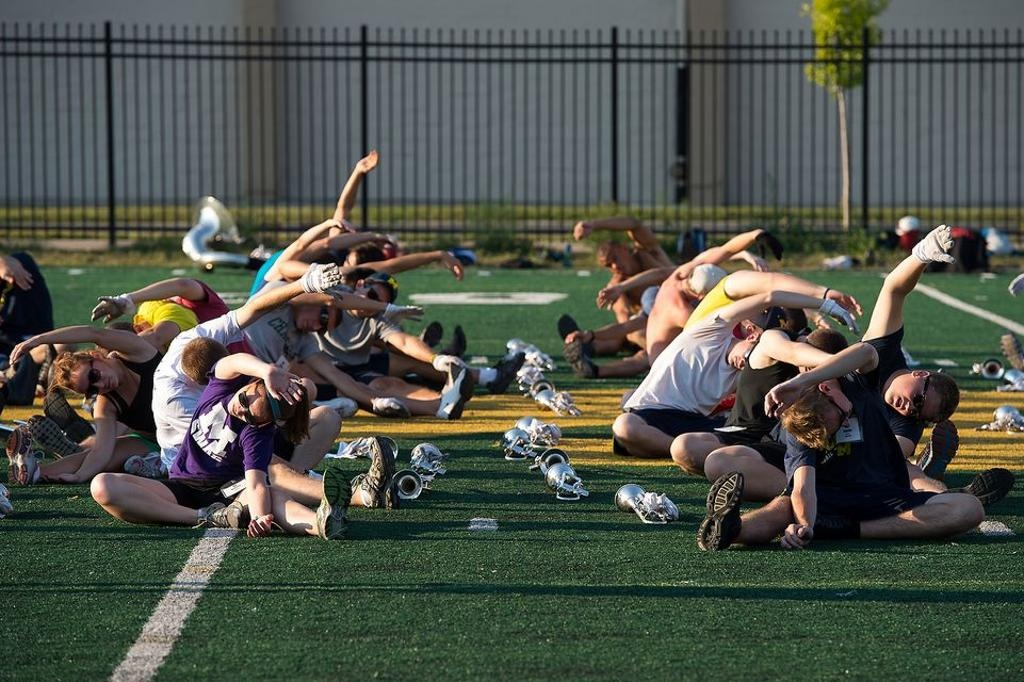human_face: (884, 377, 948, 418), (227, 382, 283, 424), (69, 359, 119, 395), (819, 391, 853, 434), (353, 280, 393, 316), (740, 308, 784, 340), (296, 305, 340, 331), (726, 342, 764, 372), (598, 246, 630, 274)
